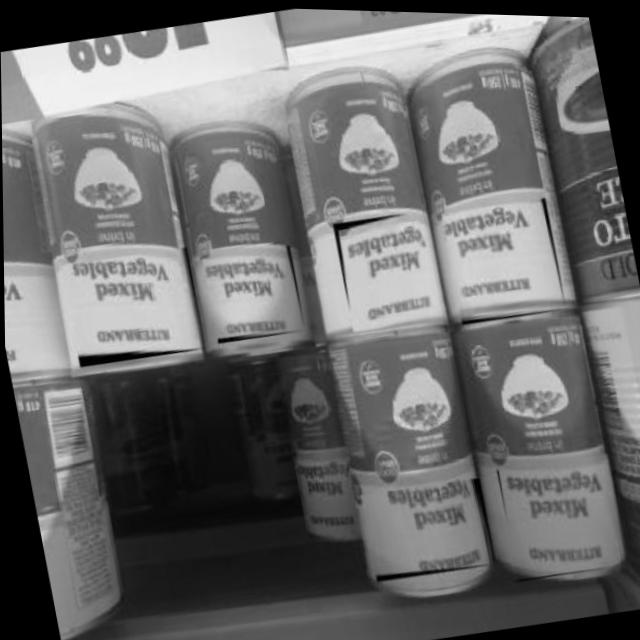Beans: (57, 241, 204, 369), (493, 444, 627, 579), (437, 190, 565, 324), (356, 469, 495, 581), (330, 205, 437, 332), (198, 239, 305, 346)
